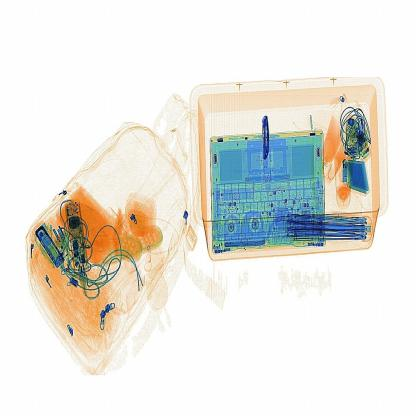knife: (256, 108, 283, 170)
